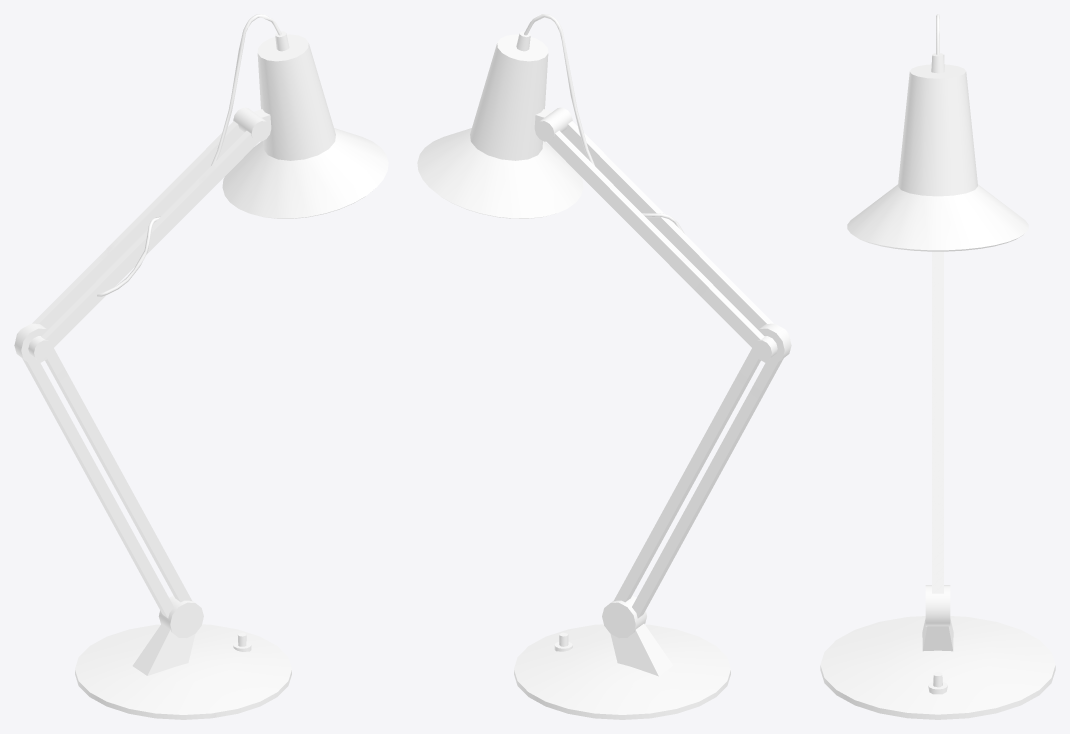
Rendered from lamp.glb.
3 views of the same model, side by side, from view 1: azimuth 30°, elevation 25°; view 2: azimuth 150°, elevation 25°; view 3: azimuth 270°, elevation 25° (orthographic). The views are drawn at different scales.
Parts seen in each view (by area): view 1: lamp_a_0; view 2: lamp_a_0; view 3: lamp_a_0.
Boxes of the visible parts, x1,y1,x2,y2 form: lamp_a_0: (14, 14, 388, 719); lamp_a_0: (417, 14, 791, 719); lamp_a_0: (820, 14, 1055, 719).
Bounding box in the file's own units: 3.36 × 5.73 × 1.76.
1 material, 1 textured.
